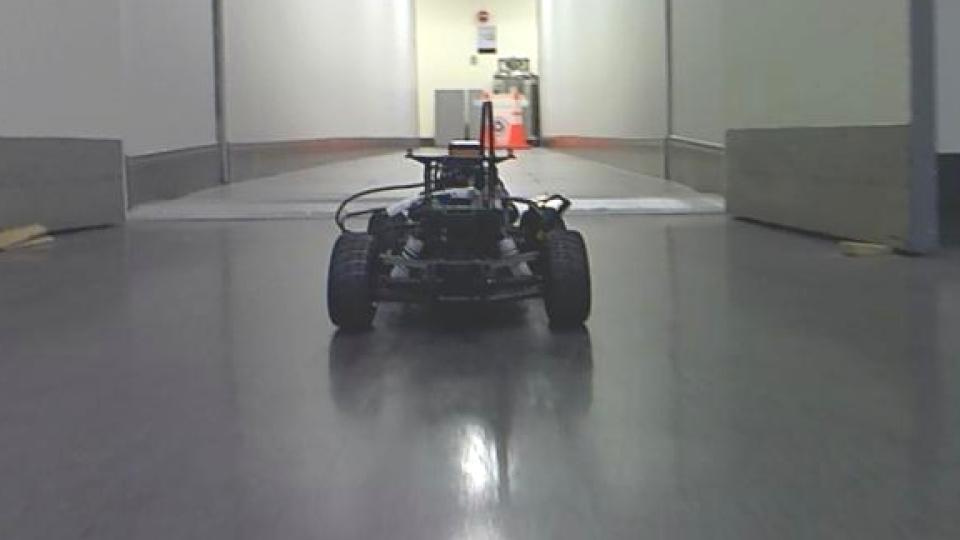car: (323, 98, 597, 335)
